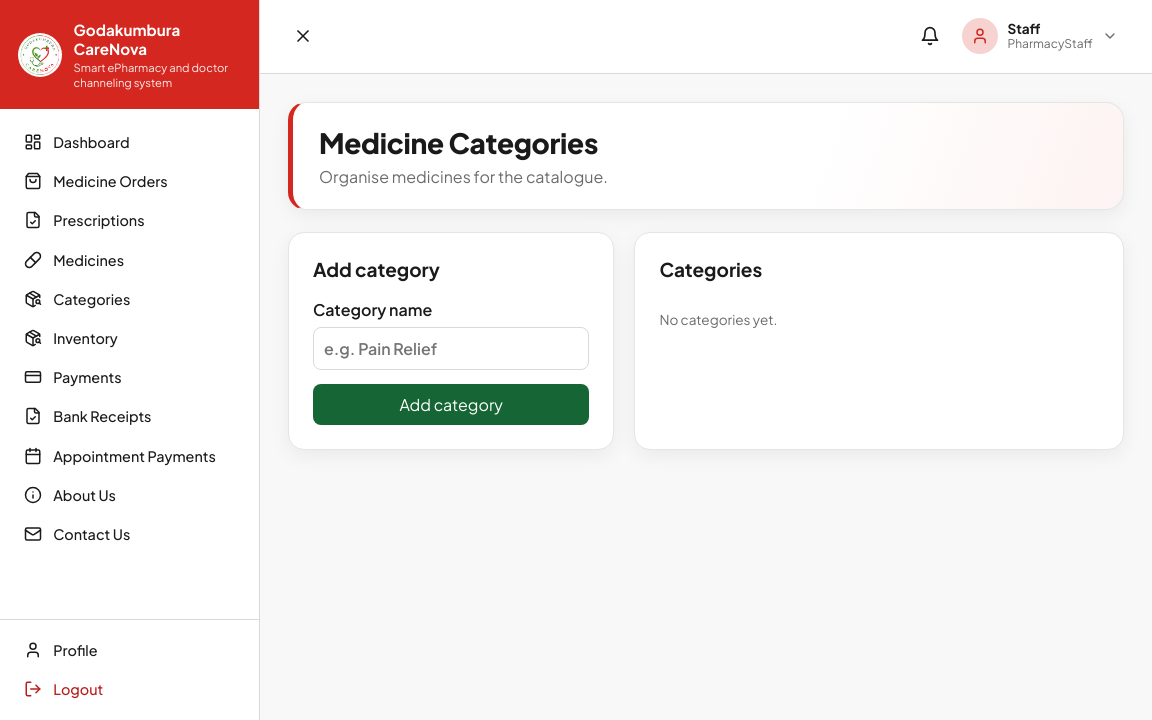
Scenario: CategoryManagementPage › shows a warning for a duplicate category name
Check: the text "No categories yet." is shown, box [659, 311, 778, 328]
In the field labelled "Category name": (451, 348) [313, 327, 589, 370], type "Vitamins"
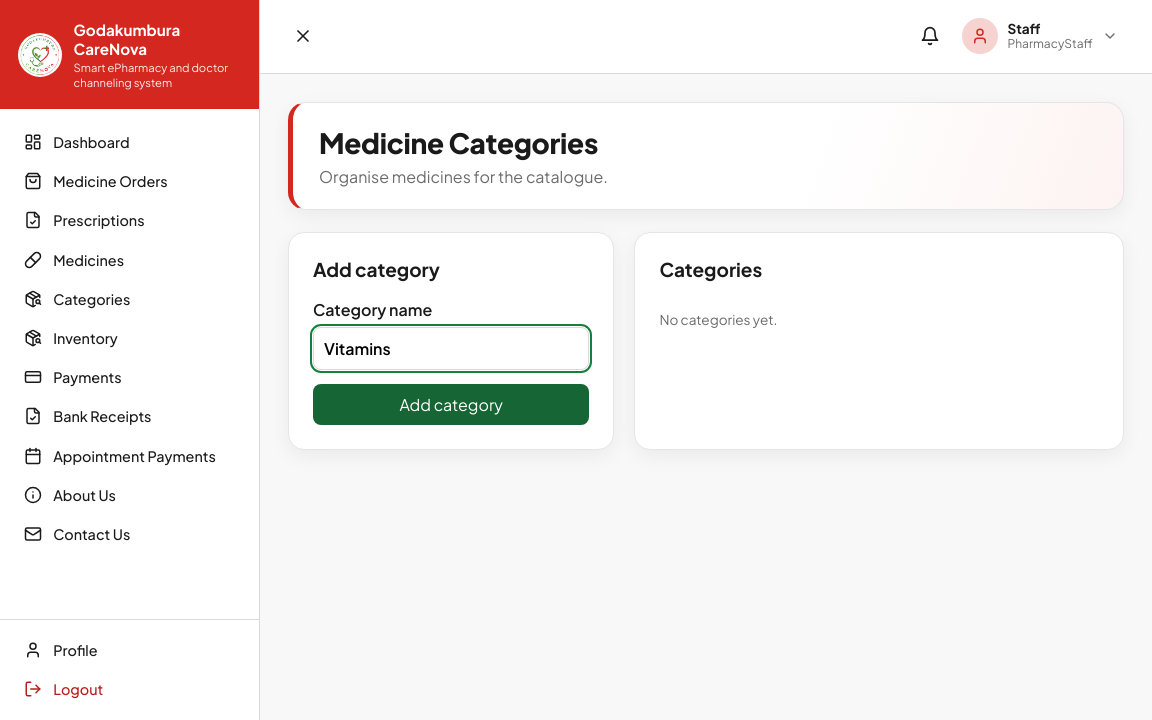
Click the button "Add category": (451, 404) [313, 384, 589, 425]
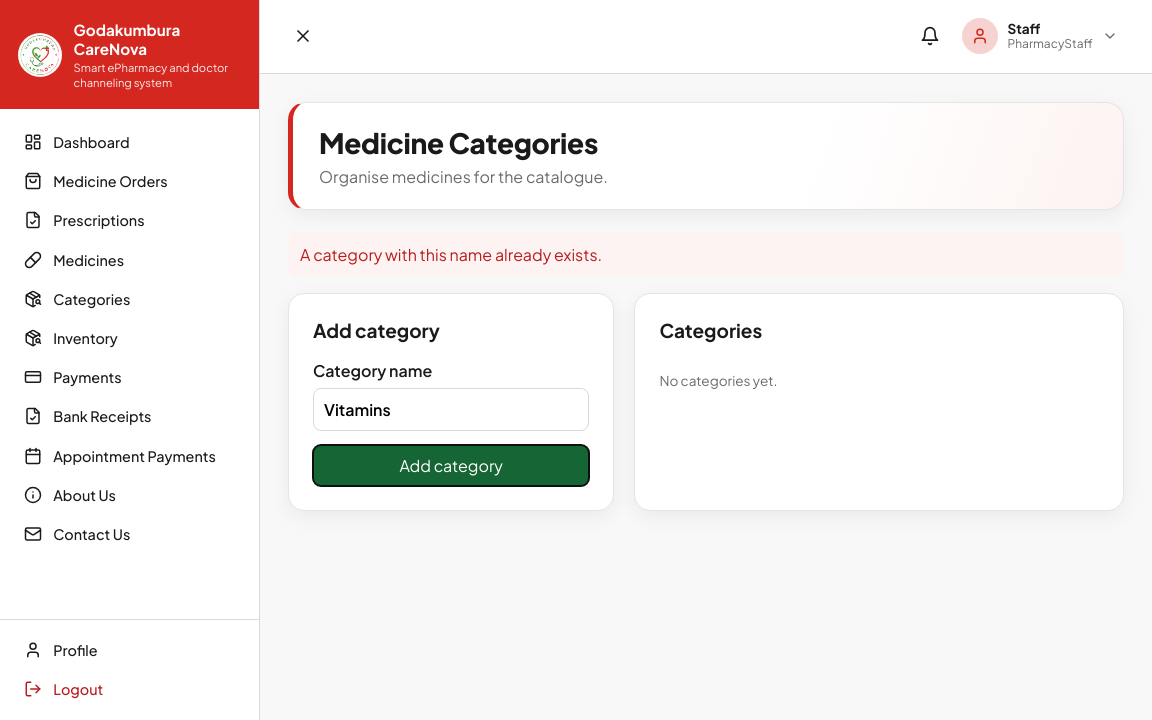
Check: the text "A category with this name already exists." is shown, box [288, 232, 1124, 277]
